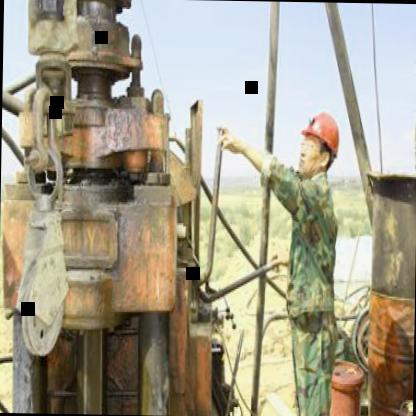helmet: (296, 104, 342, 180)
